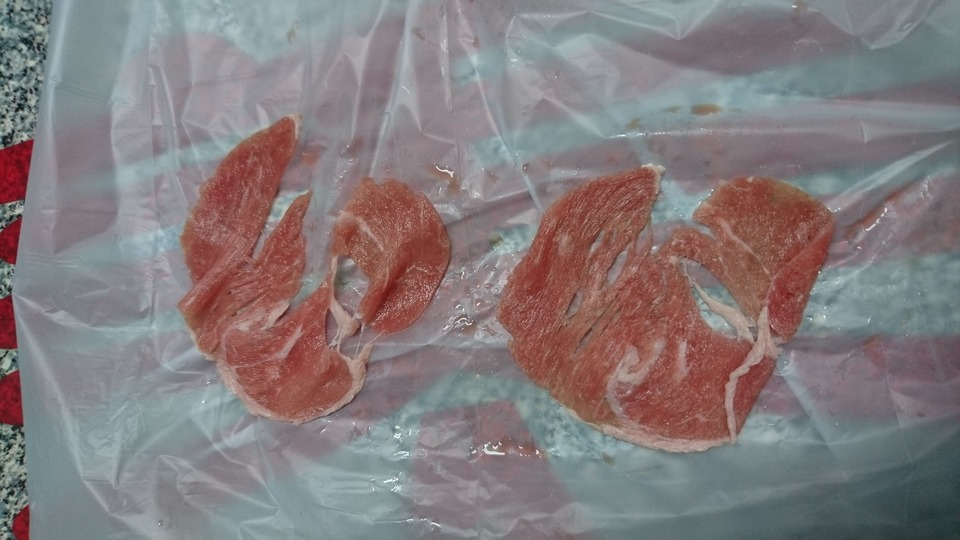restructured meat: (488, 170, 836, 462), (180, 127, 444, 424)
